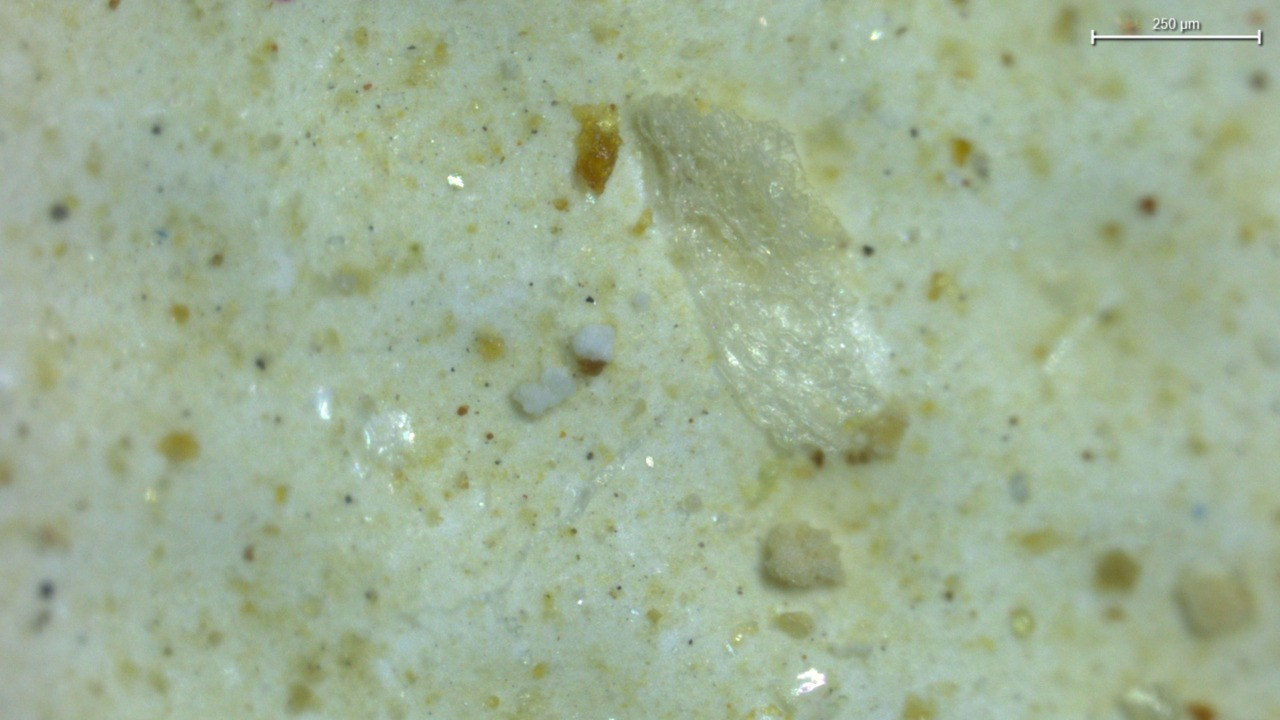microplastic_fragment: (630, 96, 887, 451), (762, 524, 843, 588), (513, 366, 576, 416), (571, 324, 615, 362)
